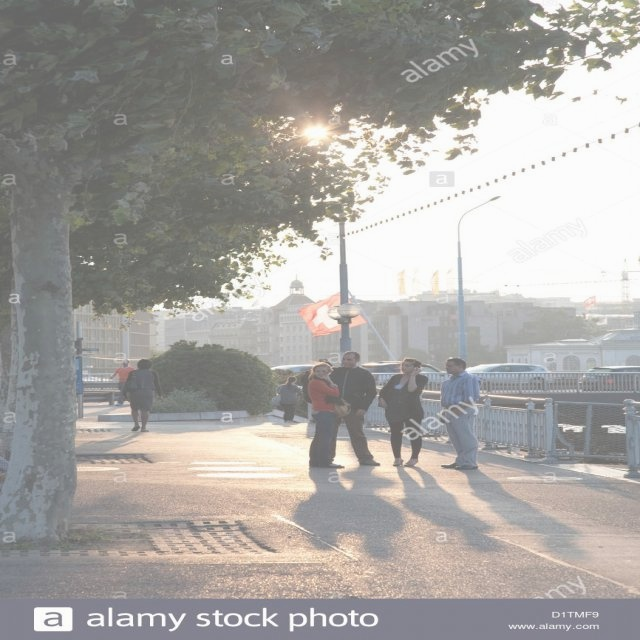pessoa: (284, 467, 598, 563), (326, 350, 382, 467), (378, 358, 430, 467), (438, 357, 481, 470), (306, 362, 346, 469), (120, 358, 165, 432), (108, 358, 137, 406), (306, 368, 330, 425), (276, 375, 304, 423), (316, 356, 336, 369)
